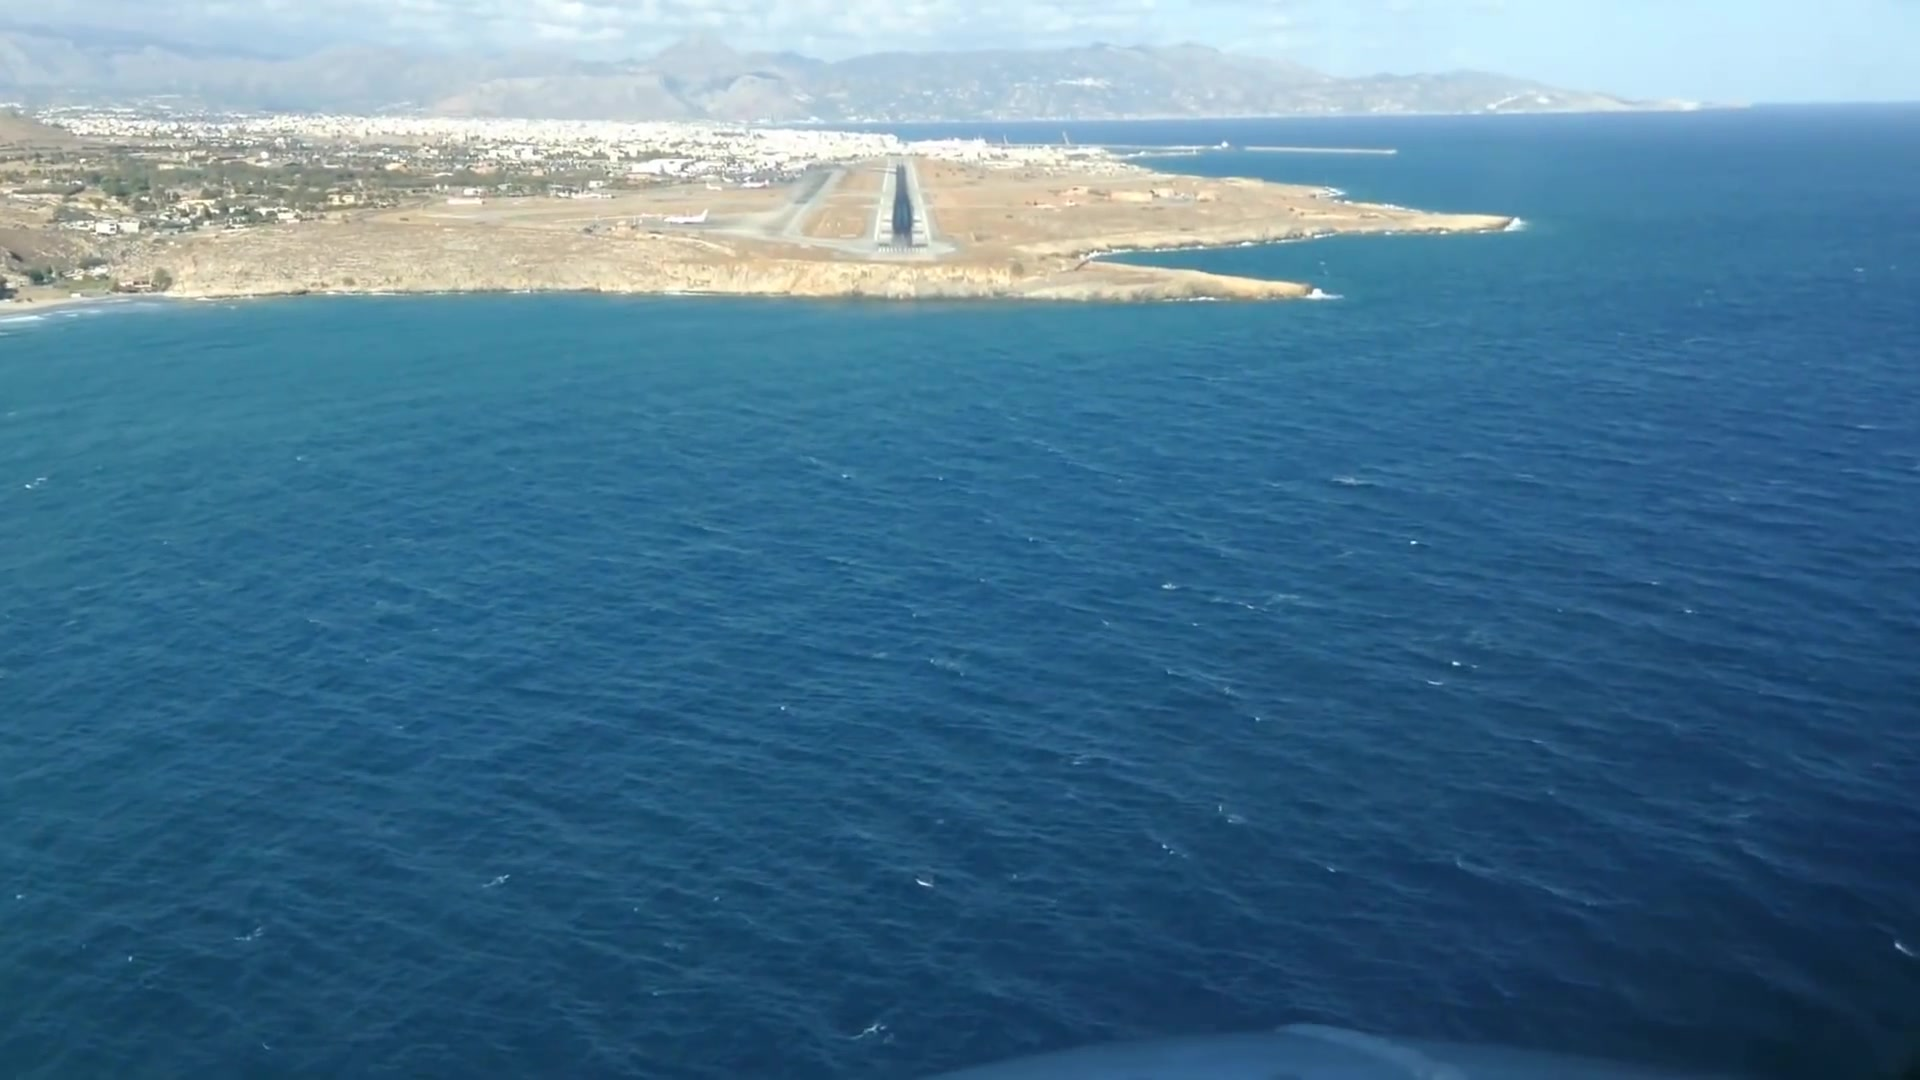entrance: (877, 247, 930, 255)
runway: (872, 158, 934, 260)
